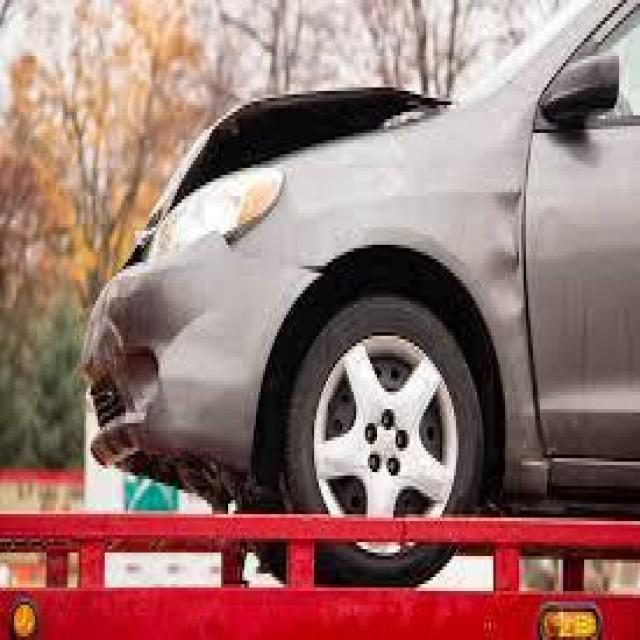damaged: (168, 94, 460, 217), (195, 231, 326, 294), (486, 192, 528, 326)
